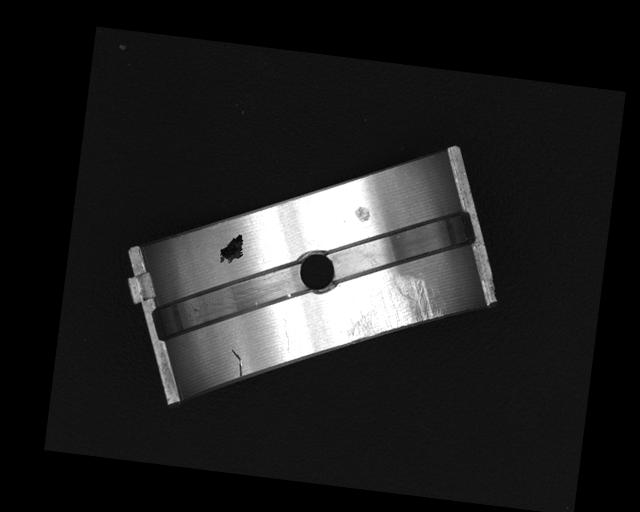blot: (217, 231, 246, 267)
bruise: (353, 205, 371, 224)
gap: (149, 243, 307, 353), (323, 194, 478, 297)
hole: (293, 248, 338, 297)
nick: (227, 349, 246, 379), (279, 317, 295, 352)
scratch: (344, 268, 449, 353)
